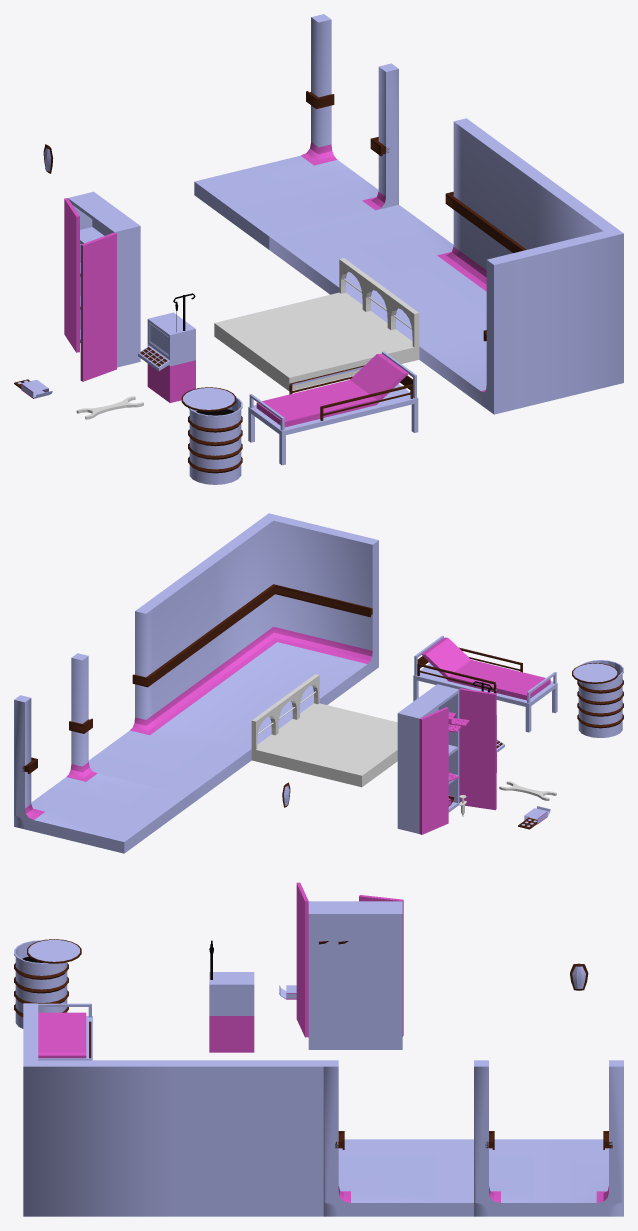
File: Tileset.FBX
The picture shows the model from 3 angles, top to bottom: view 1: azimuth 30°, elevation 25°; view 2: azimuth 150°, elevation 25°; view 3: azimuth 270°, elevation 25°; orthographic projection. The views are drawn at different scales.
Parts seen in each view (by area): view 1: Box002, Box007, Box001, Box017, Box006, Box004, Box013, Cylinder003, Box014, Box008; view 2: Box002, Box001, Box007, Box017, Box004, Box006, Box013, Cylinder003, Box008; view 3: Box002, Box001, Box017, Box007, Box004, Cylinder003, Box014, Box013.
Boxes of the visible parts, bbox=[...] form: Box002: bbox=[419, 178, 623, 414]; Box007: bbox=[194, 14, 398, 249]; Box001: bbox=[346, 124, 548, 345]; Box017: bbox=[64, 191, 140, 381]; Box006: bbox=[214, 292, 419, 390]; Box004: bbox=[269, 118, 473, 294]; Box013: bbox=[248, 351, 418, 465]; Cylinder003: bbox=[181, 387, 242, 484]; Box014: bbox=[138, 293, 195, 402]; Box008: bbox=[339, 258, 419, 347]; Box002: bbox=[205, 513, 378, 704]; Box001: bbox=[141, 560, 313, 748]; Box007: bbox=[14, 653, 187, 853]; Box017: bbox=[397, 684, 496, 834]; Box004: bbox=[88, 606, 251, 806]; Box006: bbox=[251, 703, 397, 787]; Box013: bbox=[413, 635, 557, 732]; Cylinder003: bbox=[572, 660, 623, 737]; Box008: bbox=[251, 674, 319, 749]; Box002: bbox=[23, 1003, 173, 1216]; Box001: bbox=[173, 1060, 323, 1216]; Box017: bbox=[296, 882, 403, 1049]; Box007: bbox=[474, 1060, 623, 1216]; Box004: bbox=[323, 1060, 473, 1216]; Cylinder003: bbox=[14, 939, 81, 1028]; Box014: bbox=[209, 940, 254, 1052]; Box013: bbox=[38, 1003, 92, 1060].
Bounding box in the file's own units: 7075 × 2271 × 8125.
